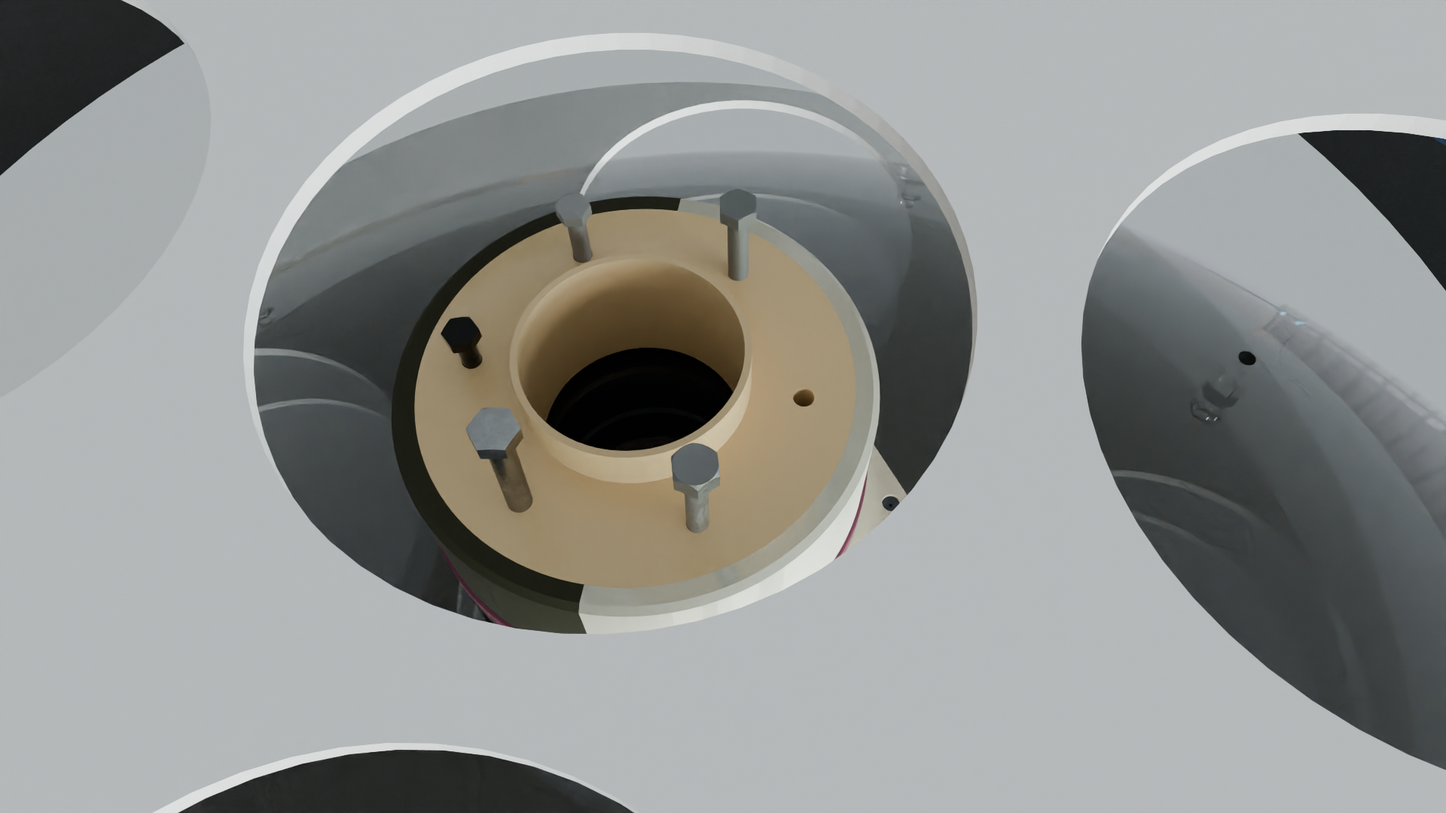bolt: (465, 407, 521, 450), (671, 443, 720, 491), (720, 189, 757, 221), (441, 317, 479, 346), (554, 193, 590, 219)
